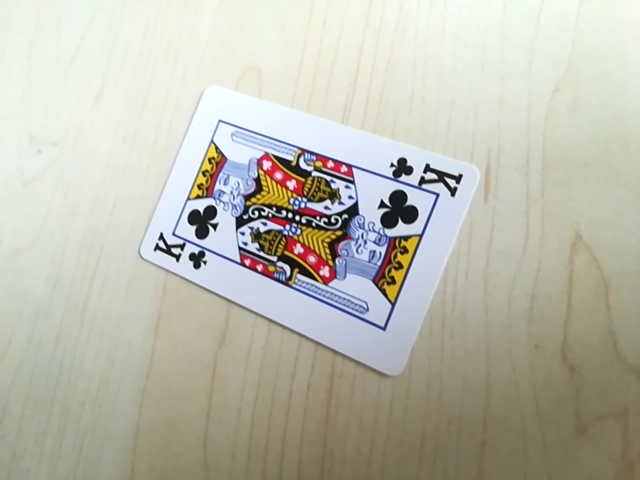mh k: (385, 157, 466, 191), (149, 235, 210, 272)
